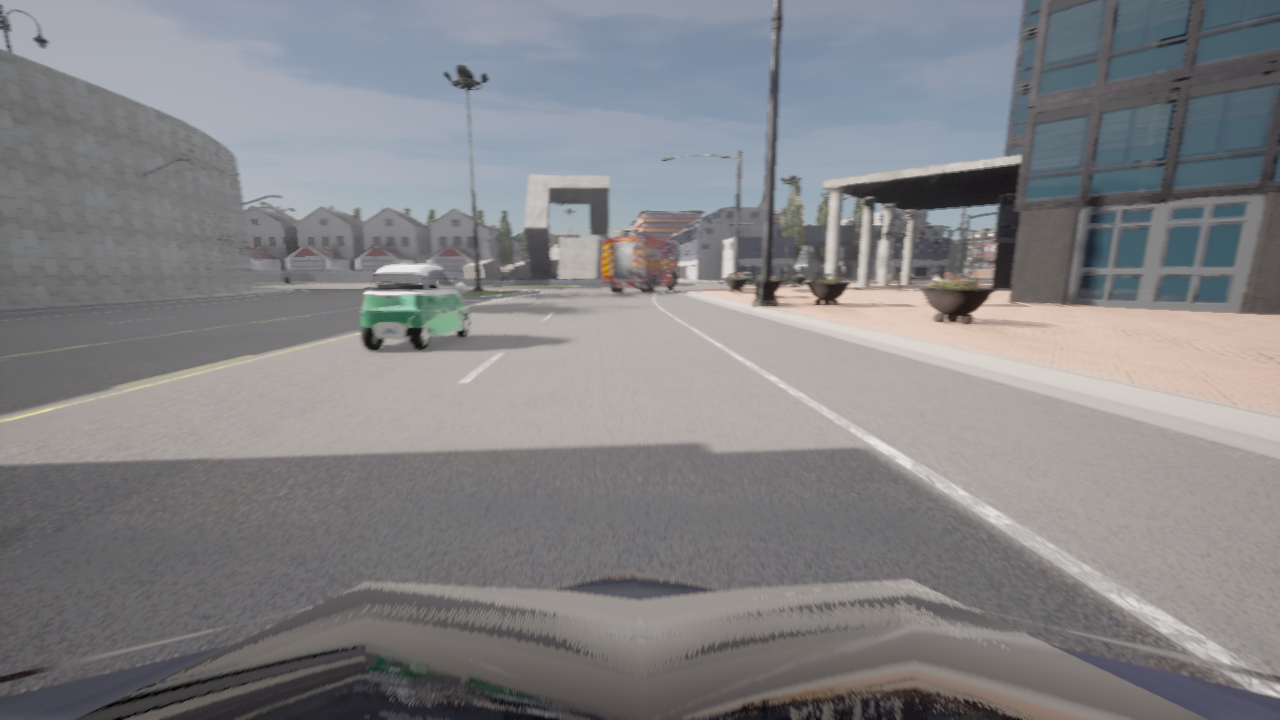cyclist: (0, 569, 1279, 719), (361, 264, 469, 350), (602, 228, 680, 292), (742, 272, 751, 283)
